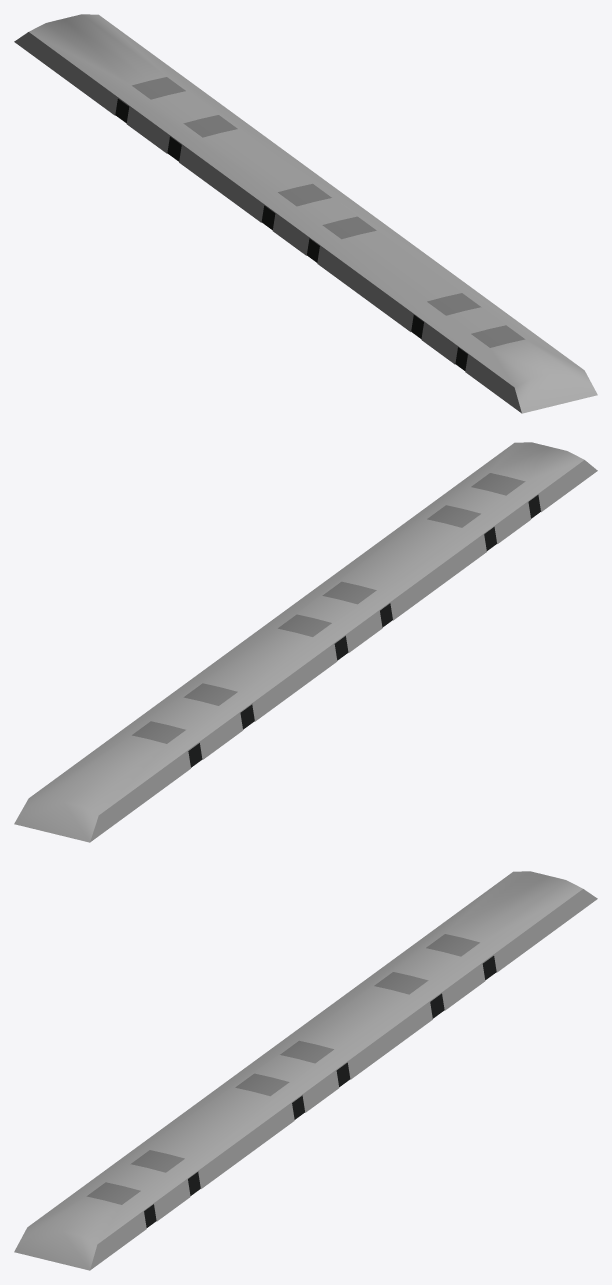
File: DRC_PANTA01.glb
3 renders of one model, top to bottom at view 1: azimuth 30°, elevation 25°; view 2: azimuth 150°, elevation 25°; view 3: azimuth 330°, elevation 25°, orthographic.
Parts seen in each view (by area): view 1: obj4; view 2: obj4; view 3: obj4.
Boxes of the visible parts, left/top/right/bottom form: obj4: left=14, top=14, right=597, bottom=413; obj4: left=14, top=442, right=597, bottom=842; obj4: left=14, top=871, right=597, bottom=1270.
Size of the model in its own units: 2.89 by 0.8316 by 33.47.
9 materials, 9 textured.
